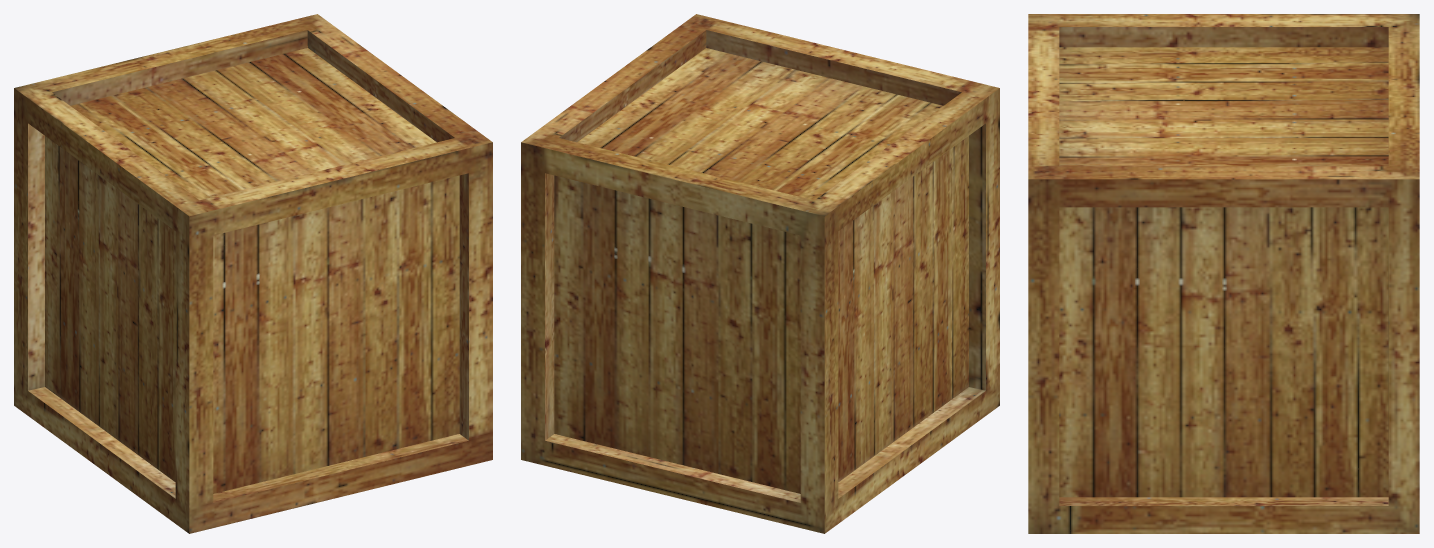
Rendered from crate.fbx.
3 renders of one model, left to right at view 1: azimuth 30°, elevation 25°; view 2: azimuth 150°, elevation 25°; view 3: azimuth 270°, elevation 25°, orthographic. The views are drawn at different scales.
Parts seen in each view (by area): view 1: crate; view 2: crate; view 3: crate.
Part boxes in pixels (x1,y1,x2,y2): crate: [14, 14, 492, 533]; crate: [521, 14, 999, 533]; crate: [1028, 14, 1419, 533].
Size of the model in its own units: 236 by 236 by 236.
1 material, 1 textured.
